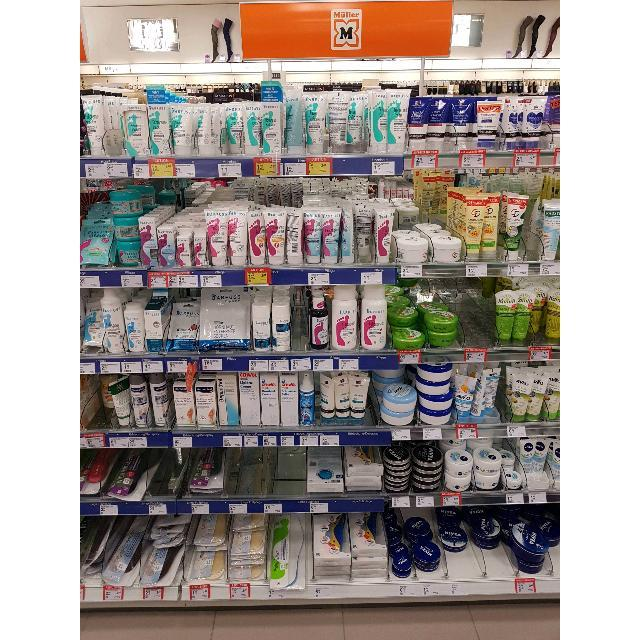empty: (225, 447, 308, 498), (460, 276, 484, 348), (156, 448, 190, 497), (292, 286, 308, 350), (528, 172, 538, 260)
front: (442, 552, 511, 580), (100, 407, 114, 429), (550, 548, 560, 578), (80, 349, 108, 355)
